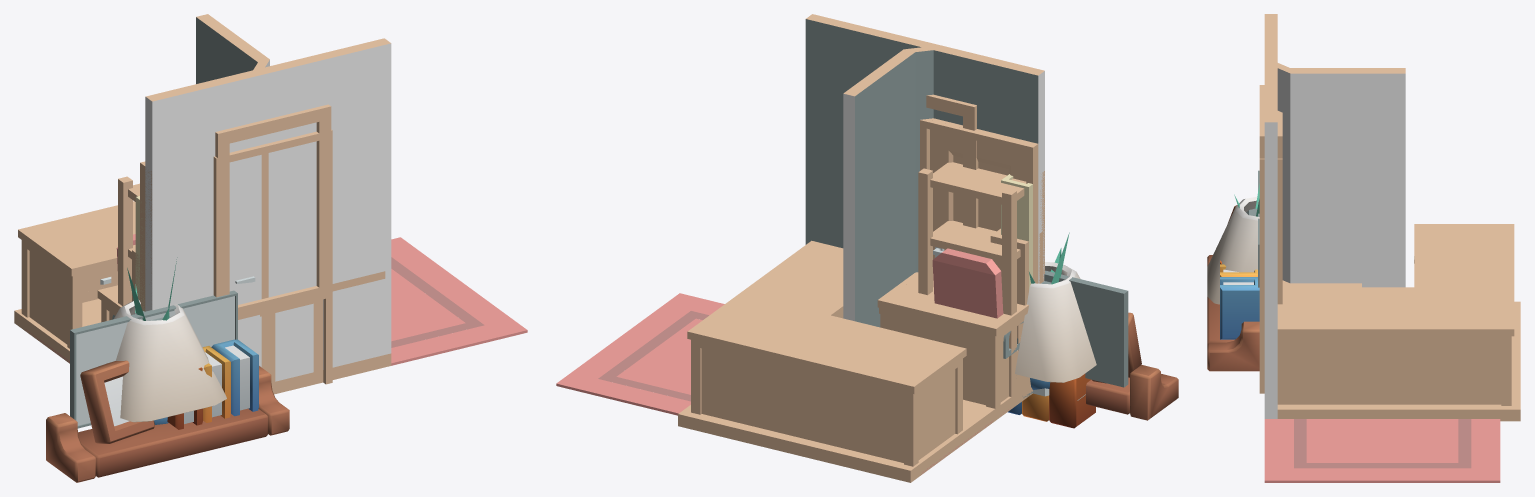
The model's file is kit.glb.
3 renders of one model, left to right at view 1: azimuth 30°, elevation 25°; view 2: azimuth 150°, elevation 25°; view 3: azimuth 270°, elevation 25°, orthographic. The views are drawn at different scales.
Parts seen in each view (by area): view 1: wall(Clone), wallCorner(Clone), shelf_B_large_decorated, wallWindow(Clone), deskCorner(Clone), rugRectangle(Clone), lamp_table, televisionModern(Clone), wallDoorway(Clone), floorFull(Clone), doorway(Clone), bookcaseOpen(Clone) (+3 smaller); view 2: deskCorner(Clone), wallCorner(Clone), wallWindow(Clone), wall(Clone), rugRectangle(Clone), bookcaseOpen(Clone), desk(Clone), lamp_table, floorFull(Clone), televisionModern(Clone), door, chair (+6 smaller); view 3: deskCorner(Clone), wallCorner(Clone), rugRectangle(Clone), wall(Clone), shelf_B_large_decorated, floorFull(Clone), lamp_table, wallDoorway(Clone), wallWindow(Clone), desk(Clone).
Part boxes in pixels (<box>): wall(Clone): <box>145,38,391,381</box>; wallCorner(Clone): <box>145,14,269,365</box>; shelf_B_large_decorated: <box>46,339,289,482</box>; wallWindow(Clone): <box>145,38,391,379</box>; deskCorner(Clone): <box>18,201,385,348</box>; rugRectangle(Clone): <box>25,237,527,365</box>; lamp_table: <box>114,300,226,424</box>; televisionModern(Clone): <box>70,290,237,428</box>; wallDoorway(Clone): <box>213,44,391,384</box>; floorFull(Clone): <box>14,299,391,394</box>; doorway(Clone): <box>140,153,268,372</box>; bookcaseOpen(Clone): <box>118,176,152,306</box>; deskCorner(Clone): <box>687,240,966,466</box>; wallCorner(Clone): <box>843,45,1040,327</box>; wallWindow(Clone): <box>805,18,1044,278</box>; wall(Clone): <box>805,14,1044,280</box>; rugRectangle(Clone): <box>556,293,1010,474</box>; bookcaseOpen(Clone): <box>918,162,1044,408</box>; desk(Clone): <box>877,283,1028,420</box>; lamp_table: <box>1015,262,1096,389</box>; floorFull(Clone): <box>678,396,1016,482</box>; televisionModern(Clone): <box>1044,270,1128,400</box>; door: <box>930,129,1026,259</box>; chair: <box>932,248,1023,358</box>; deskCorner(Clone): <box>1277,224,1514,405</box>; wallCorner(Clone): <box>1265,15,1405,287</box>; rugRectangle(Clone): <box>1264,419,1500,482</box>; wall(Clone): <box>1264,14,1277,418</box>; shelf_B_large_decorated: <box>1207,205,1259,371</box>; floorFull(Clone): <box>1277,301,1520,421</box>; lamp_table: <box>1207,197,1259,304</box>; wallDoorway(Clone): <box>1259,158,1282,393</box>; wallWindow(Clone): <box>1259,14,1282,418</box>; desk(Clone): <box>1282,280,1361,287</box>.
Size of the model in its own units: 4.04 by 2.8 by 2.45.
Materials: 13 (1 with a texture image).
